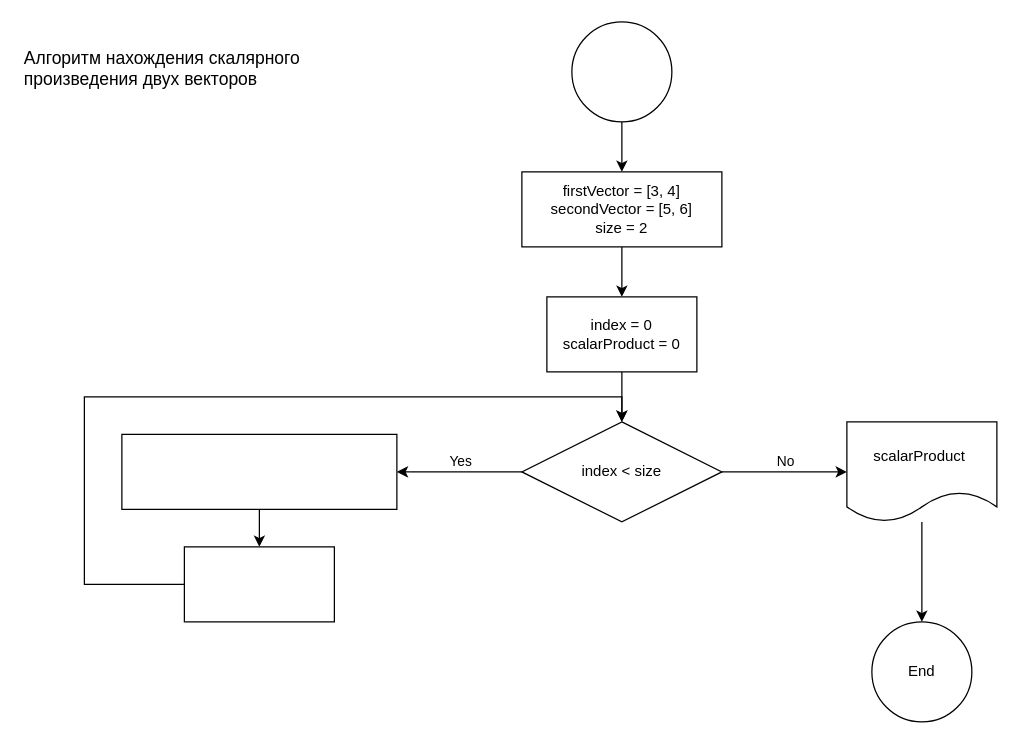
Some shapes in this 1019 by 744 pixel diagram are drawn without their labels. The centre of each missing label's shape, as x and y in pixels:
"index = index + 1" belongs at pixel 258 584.
"scalarProduct = scalarProduct + firstVector[index] * secondVector[index]" belongs at pixel 259 471.
"Start" belongs at pixel 621 71.
